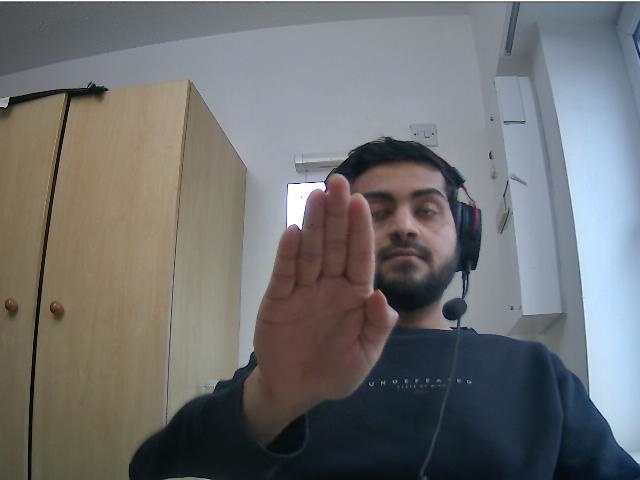up: (252, 170, 402, 400)
